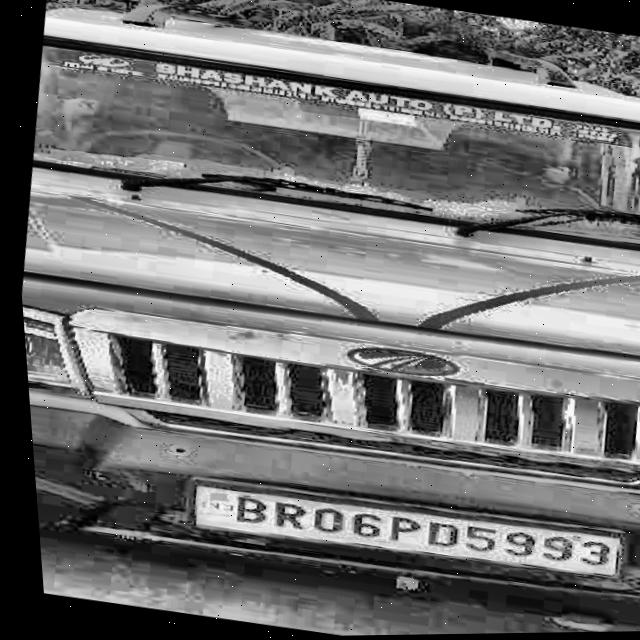light_vehicle: (1, 16, 640, 633)
